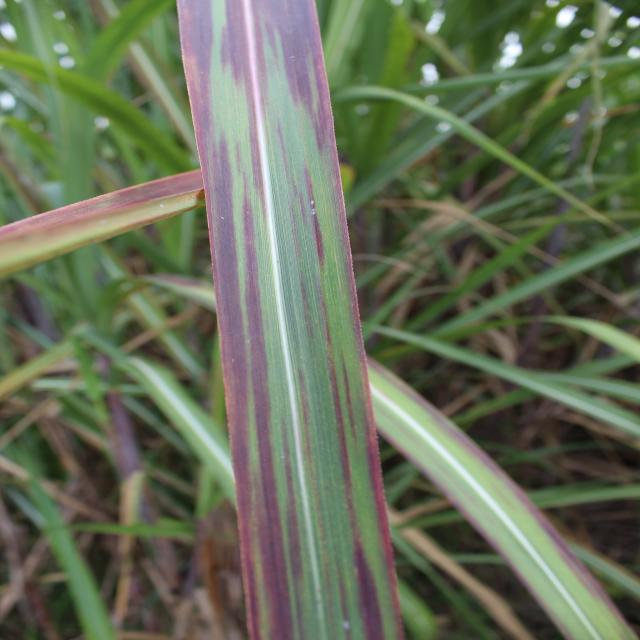Sugarcane: (174, 0, 387, 640)
